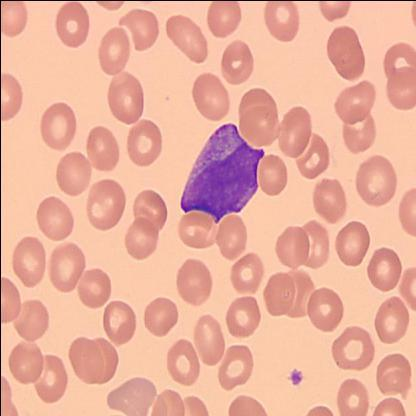Promyelocyte: (180, 121, 264, 219)
